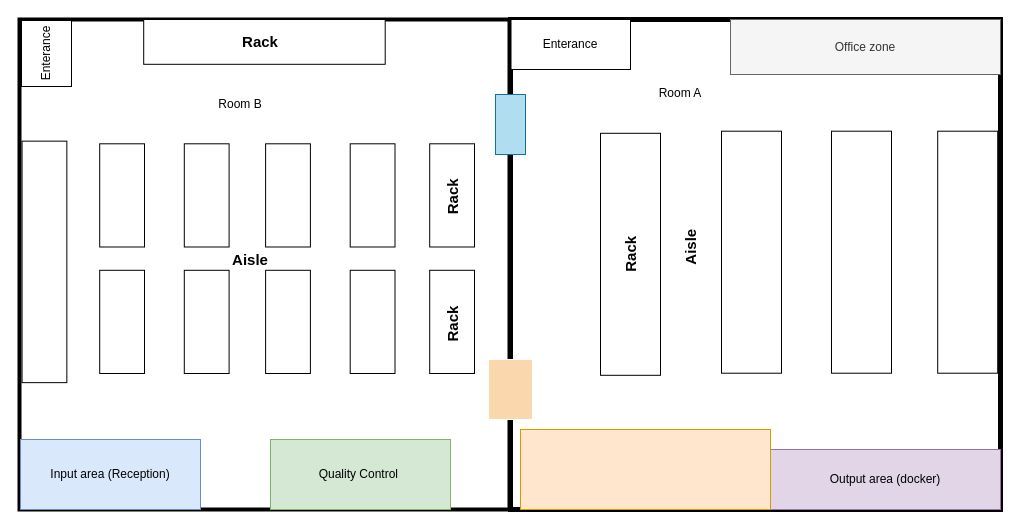
This 1020x530 diagram has some shape labels left out. Each missing label, with the box of its shape:
Door: (494, 94, 526, 154)
Gates: (488, 358, 532, 420)
Packing area: (520, 428, 770, 510)
